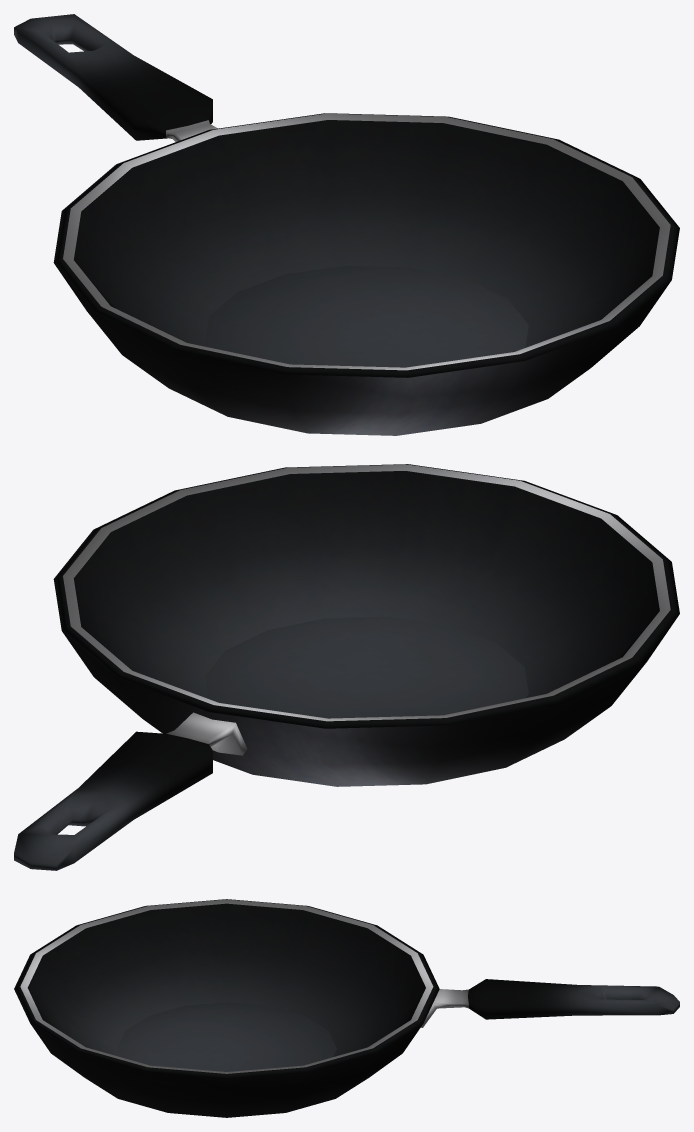
File: M_Prop_Pan_001.fbx
The picture shows the model from 3 angles, top to bottom: view 1: azimuth 30°, elevation 25°; view 2: azimuth 150°, elevation 25°; view 3: azimuth 270°, elevation 25°; orthographic projection. The views are drawn at different scales.
Parts seen in each view (by area): view 1: Pan; view 2: Pan; view 3: Pan.
Boxes of the visible parts, x1=… form: Pan: x1=14, y1=14, x2=679, y2=435; Pan: x1=14, y1=464, x2=679, y2=870; Pan: x1=14, y1=899, x2=679, y2=1117.
Bounding box in the file's own units: 77.81 × 13.34 × 122.
